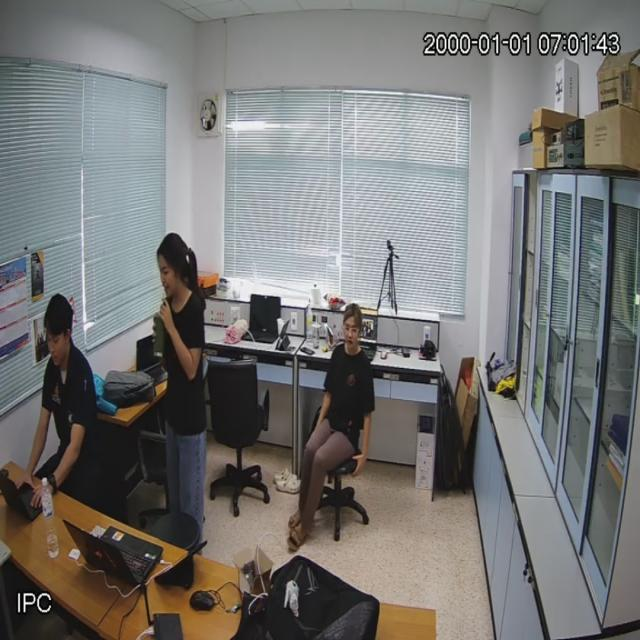normal: (286, 304, 377, 562), (151, 222, 218, 546), (34, 286, 107, 502)
